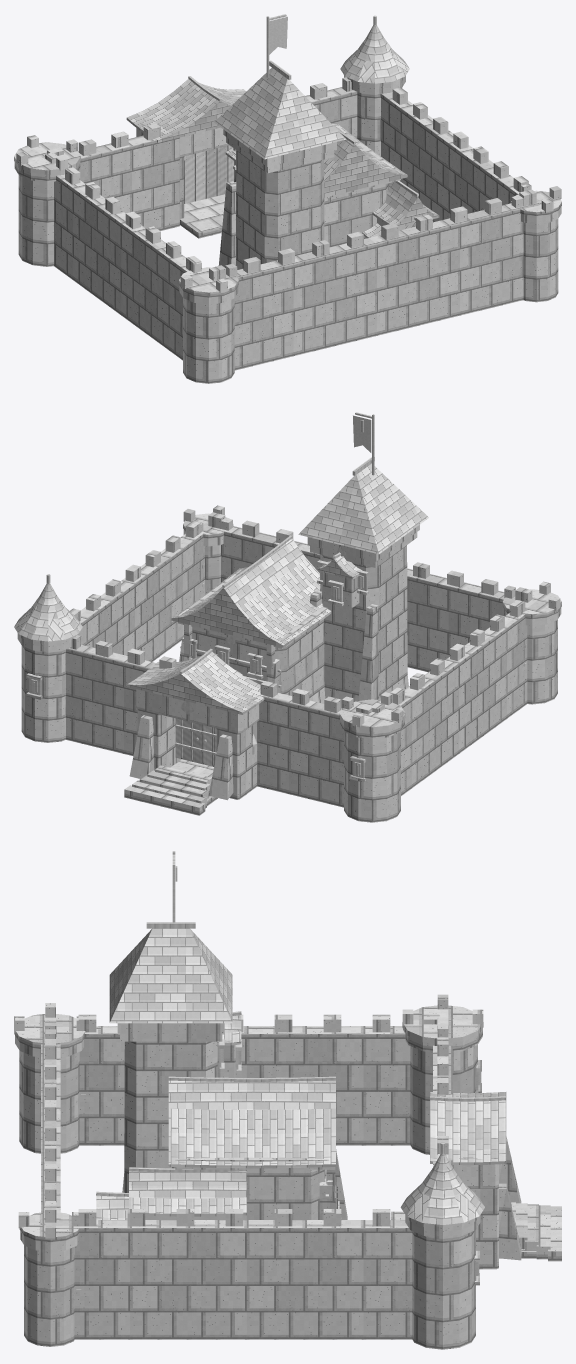
Rendered from AshenBastion_4.obj.
3 renders of one model, top to bottom at view 1: azimuth 30°, elevation 25°; view 2: azimuth 150°, elevation 25°; view 3: azimuth 270°, elevation 25°, orthographic. The views are drawn at different scales.
Parts seen in each view (by area): view 1: AshenBastion_4; view 2: AshenBastion_4; view 3: AshenBastion_4.
Boxes of the visible parts, box(x1,y1,x2,y2) form: AshenBastion_4: box(14, 14, 561, 383); AshenBastion_4: box(14, 412, 561, 822); AshenBastion_4: box(14, 851, 561, 1349).
Size of the model in its own units: 19.36 by 13.98 by 19.56.
Materials: 12 (12 with a texture image).
